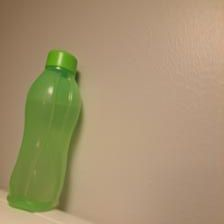bottle: (5, 48, 82, 211)
